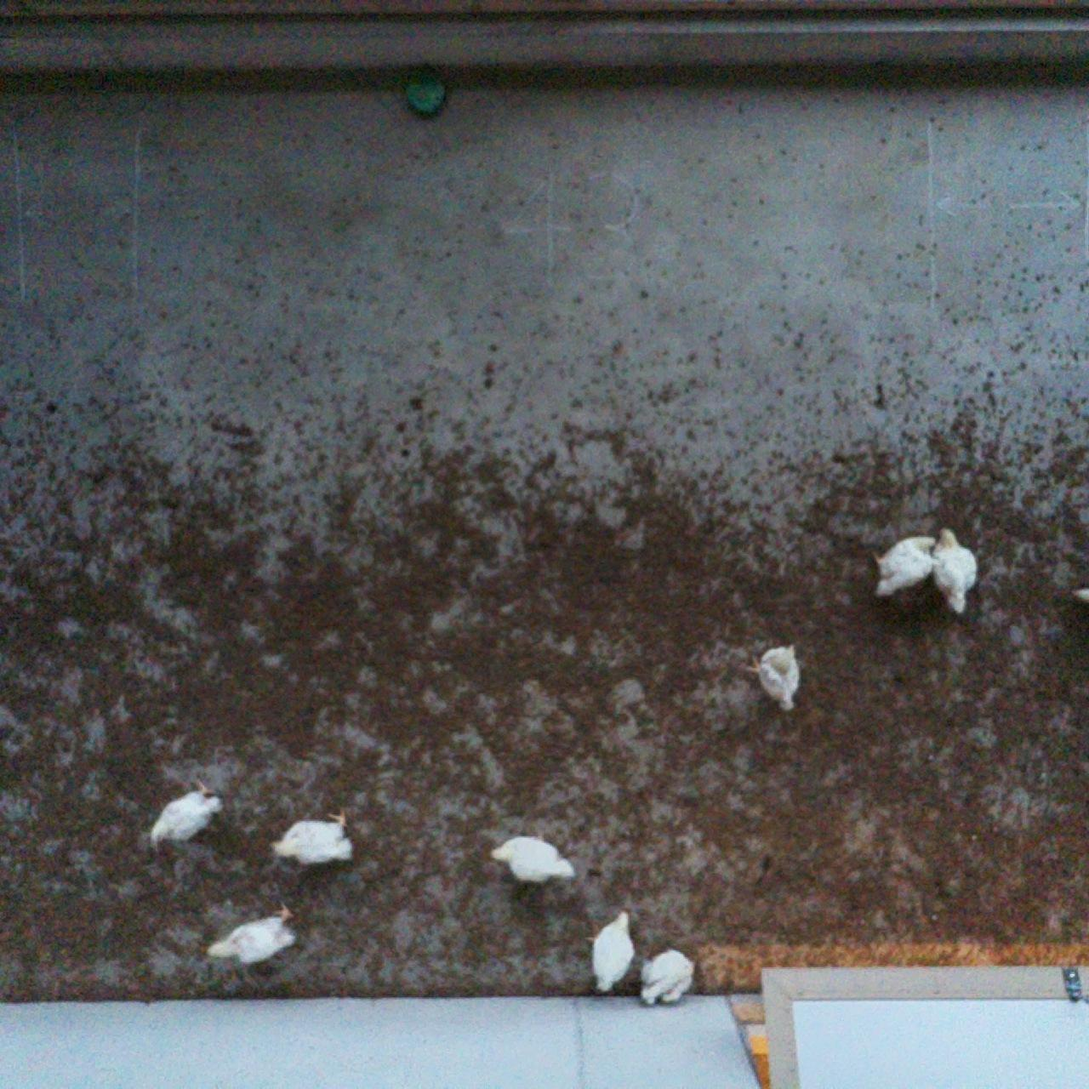chicken: (199, 901, 304, 965), (146, 777, 227, 846), (923, 524, 984, 613), (270, 807, 356, 870), (491, 828, 581, 888), (864, 533, 940, 604), (741, 636, 804, 711), (589, 906, 640, 998), (634, 944, 701, 1011)
